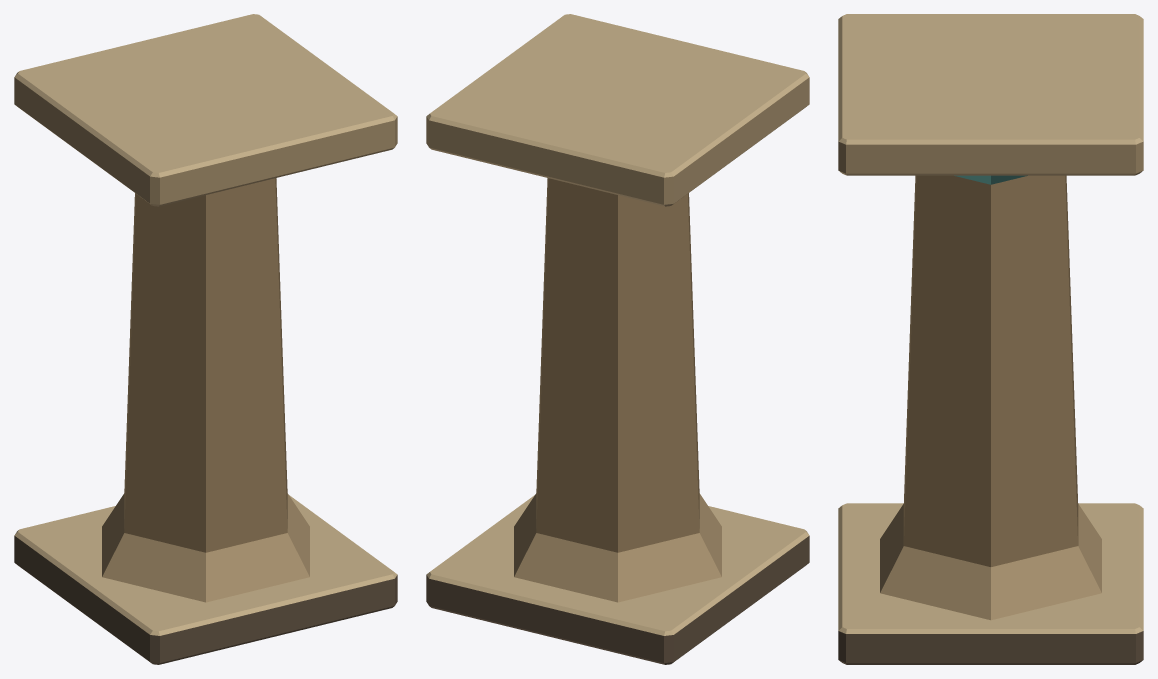
Rendered from pillar-large.glb.
3 renders of one model, left to right at view 1: azimuth 30°, elevation 25°; view 2: azimuth 150°, elevation 25°; view 3: azimuth 270°, elevation 25°, orthographic. The views are drawn at different scales.
Parts seen in each view (by area): view 1: pillar-large__body; view 2: pillar-large__body; view 3: pillar-large__body.
Boxes of the visible parts, x1,y1,x2,y2 form: pillar-large__body: [14, 14, 397, 664]; pillar-large__body: [426, 14, 809, 664]; pillar-large__body: [838, 14, 1143, 664].
Bounding box in the file's own units: 1 × 1.9 × 1.
